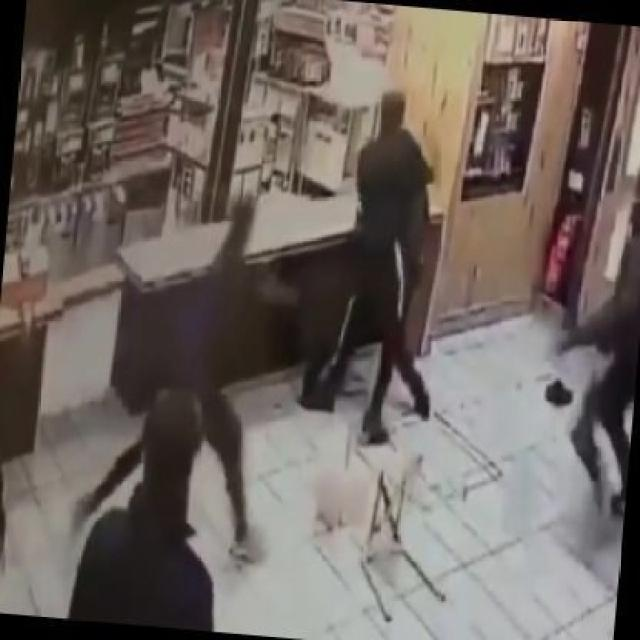fight: (288, 87, 438, 439)
